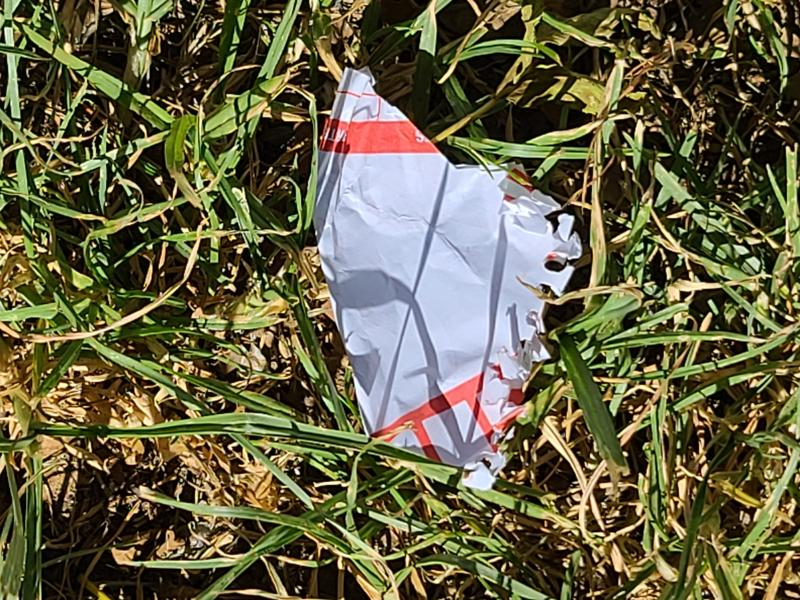papel: (313, 71, 586, 487)
